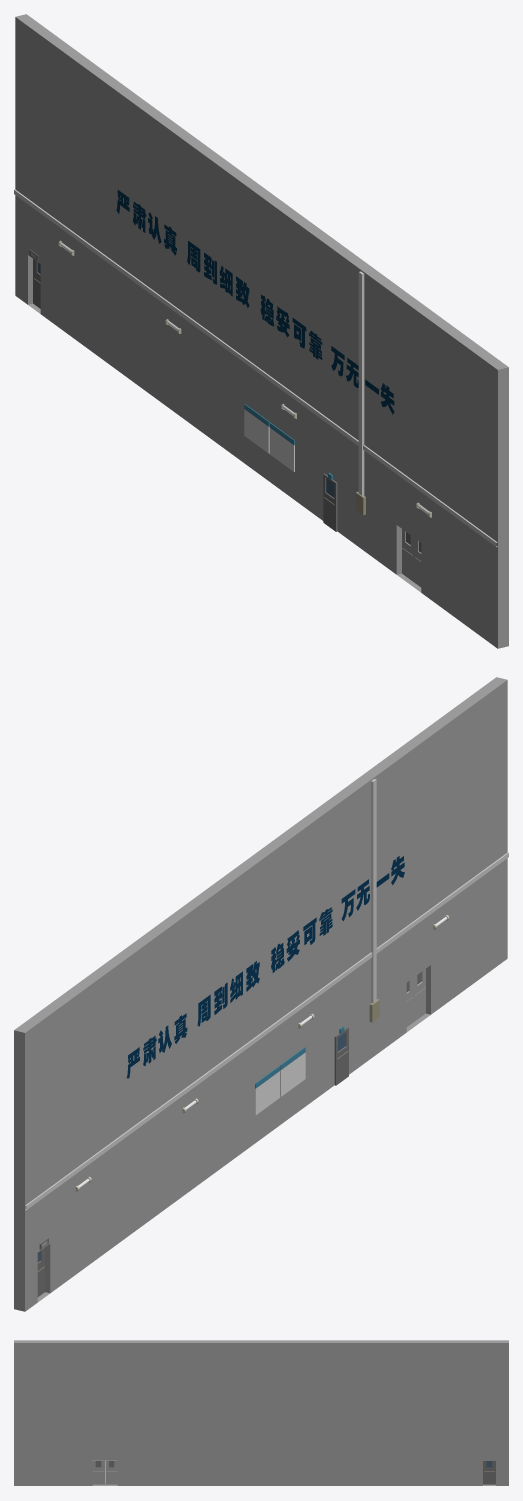
File: z_qiang_dong.fbx
3 renders of one model, top to bottom at view 1: azimuth 30°, elevation 25°; view 2: azimuth 150°, elevation 25°; view 3: azimuth 270°, elevation 25°, orthographic. The views are drawn at different scales.
Visible parts, largest first — view 1: qiang_dong; view 2: qiang_dong; view 3: qiang_dong.
Part boxes in pixels (x1,y1,x2,y2): qiang_dong: (14,14,508,648); qiang_dong: (14,677,508,1311); qiang_dong: (14,1340,508,1485).
Bounding box in the file's own units: 81.43 × 1181 × 3703.
